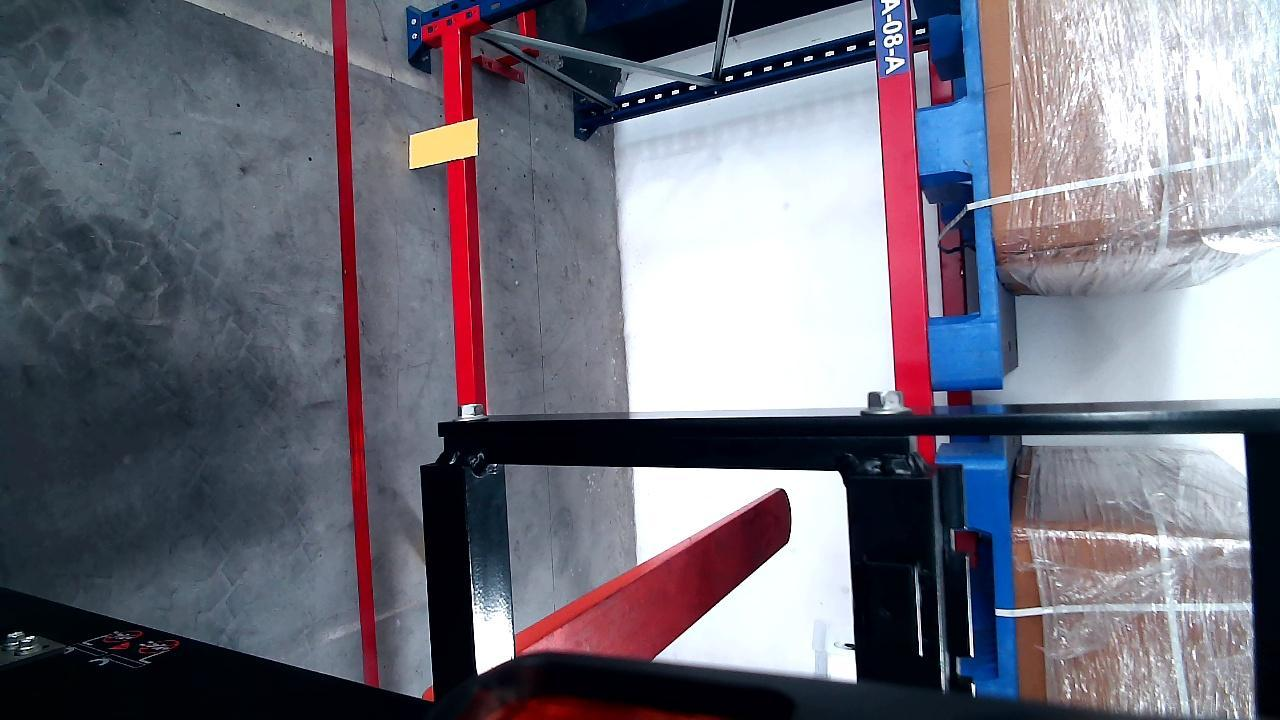red_line: (334, 0, 379, 688)
